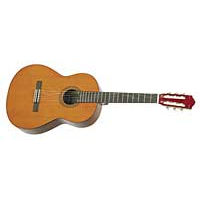guitar: (5, 64, 196, 134)
